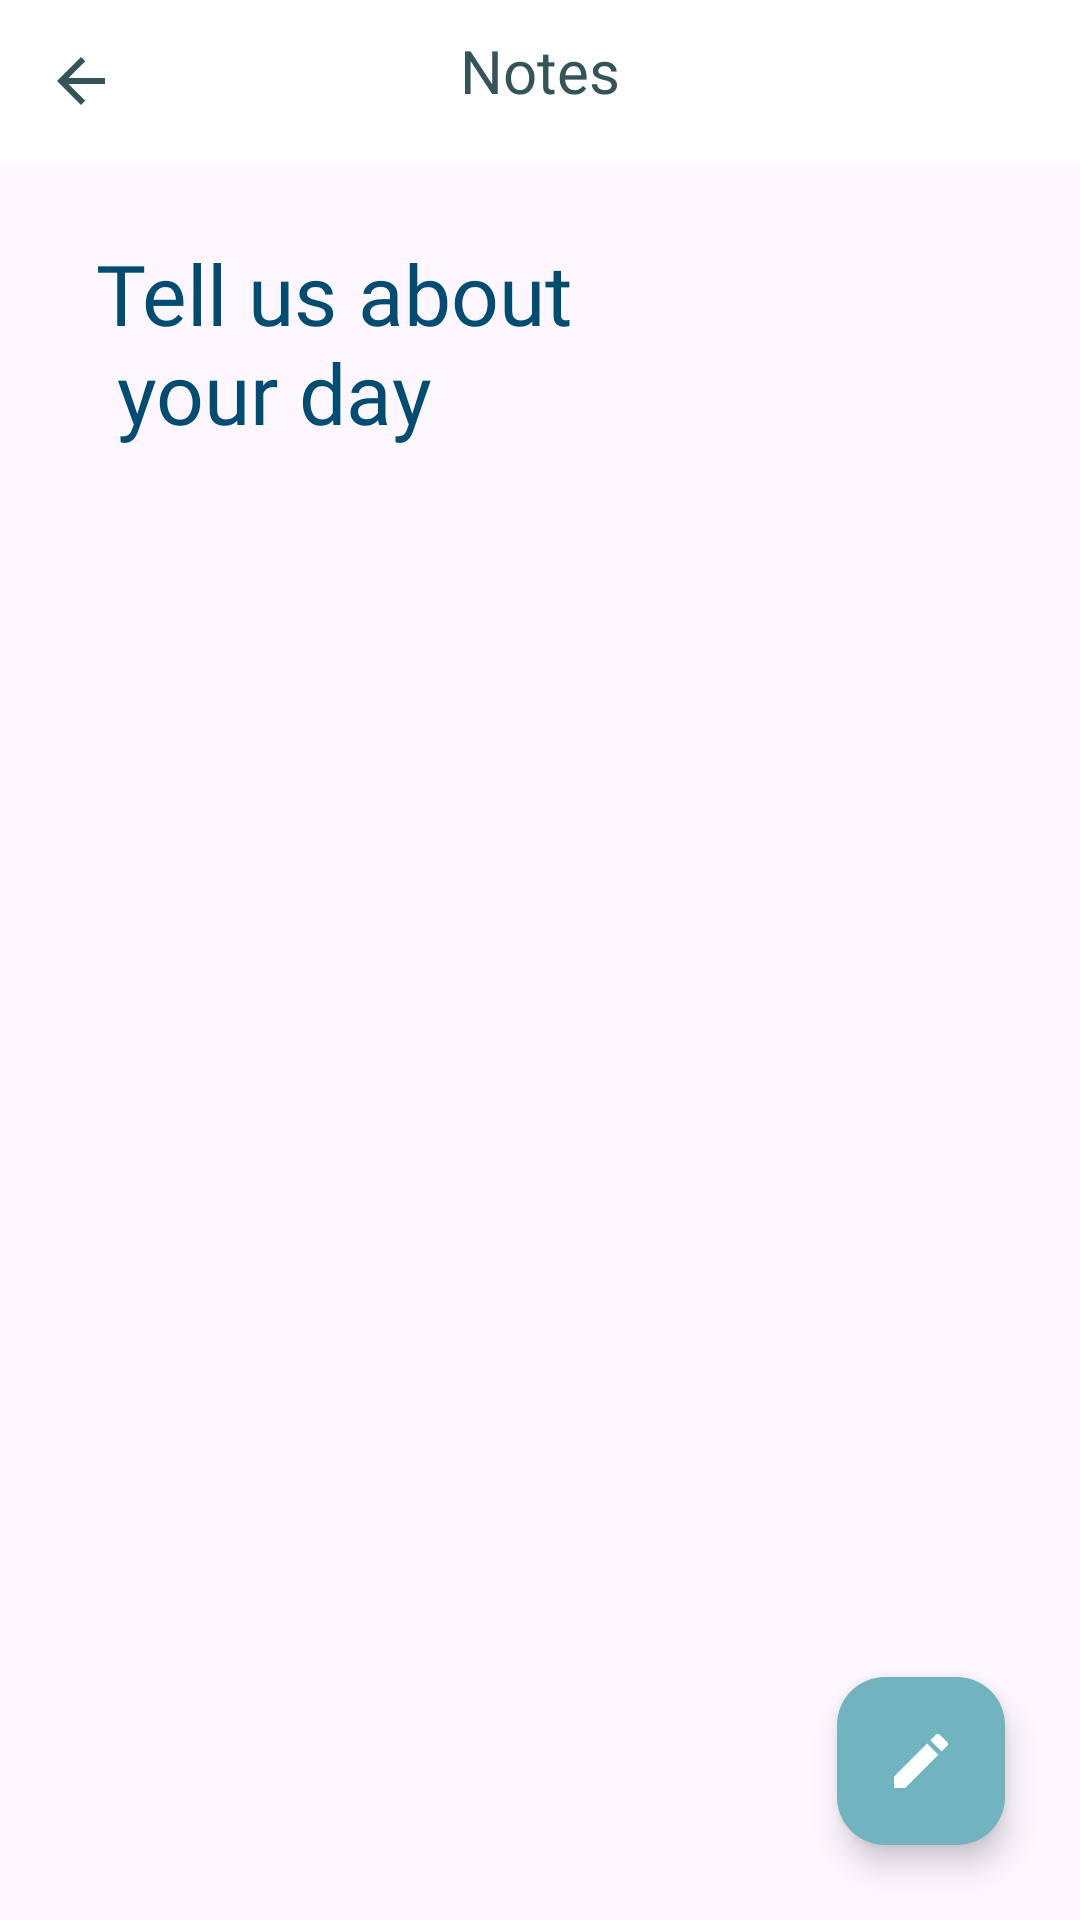

Where to tap for icons on this 1080px×1920px app screen, as [x,y]:
Add Note: [921,1761]
kembali: [81,81]
